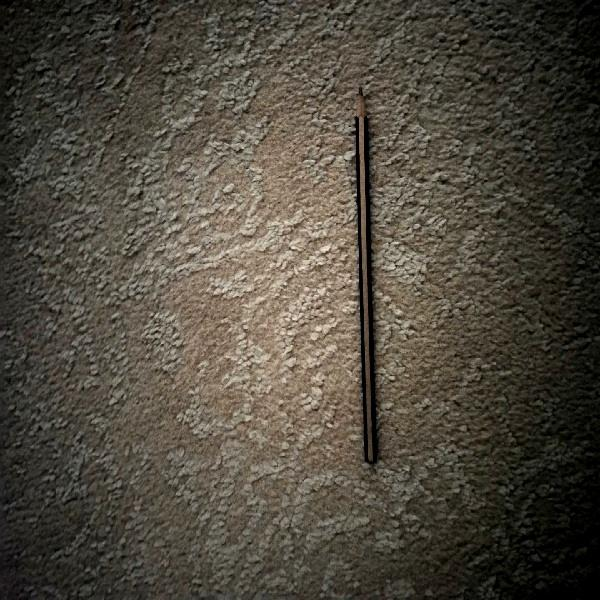pencil: (355, 87, 377, 463)
